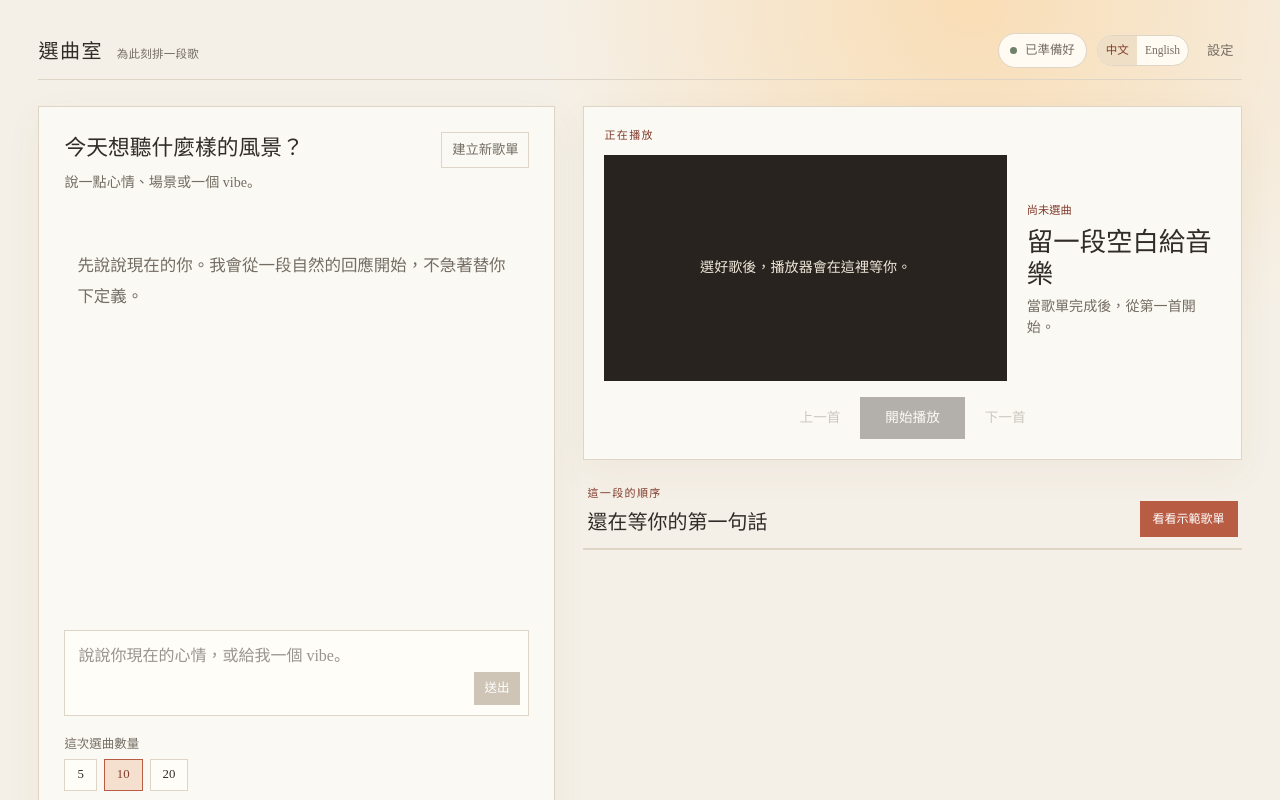
Pedelec submit flow › sends trimmed input to the live Pedelec session and saves the user message
Type "  雨後散步  " into the text box with placeholder "說說你現在的心情，或給我一個 vibe。" at (297, 673), box [64,630,530,716]
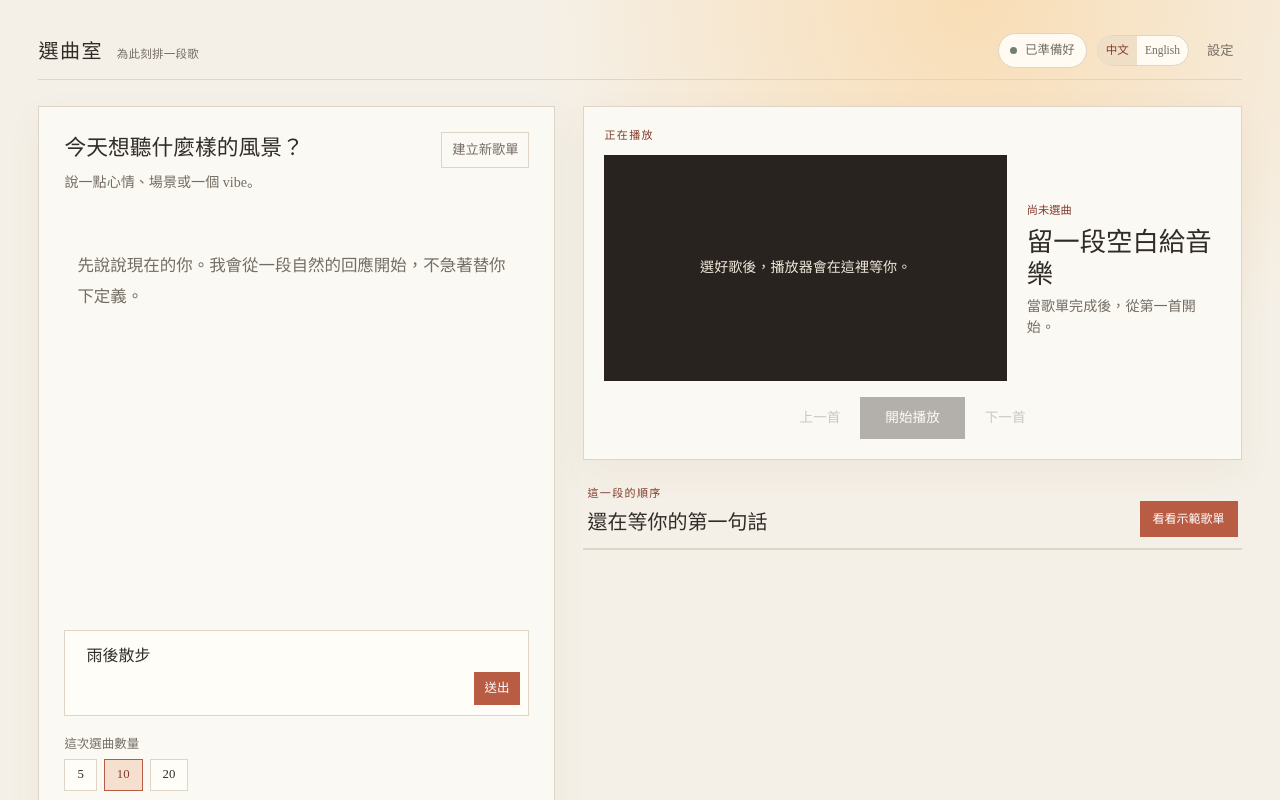
Click the button with aria-label "送出選曲需求" at (497, 688), box [474,672,520,705]
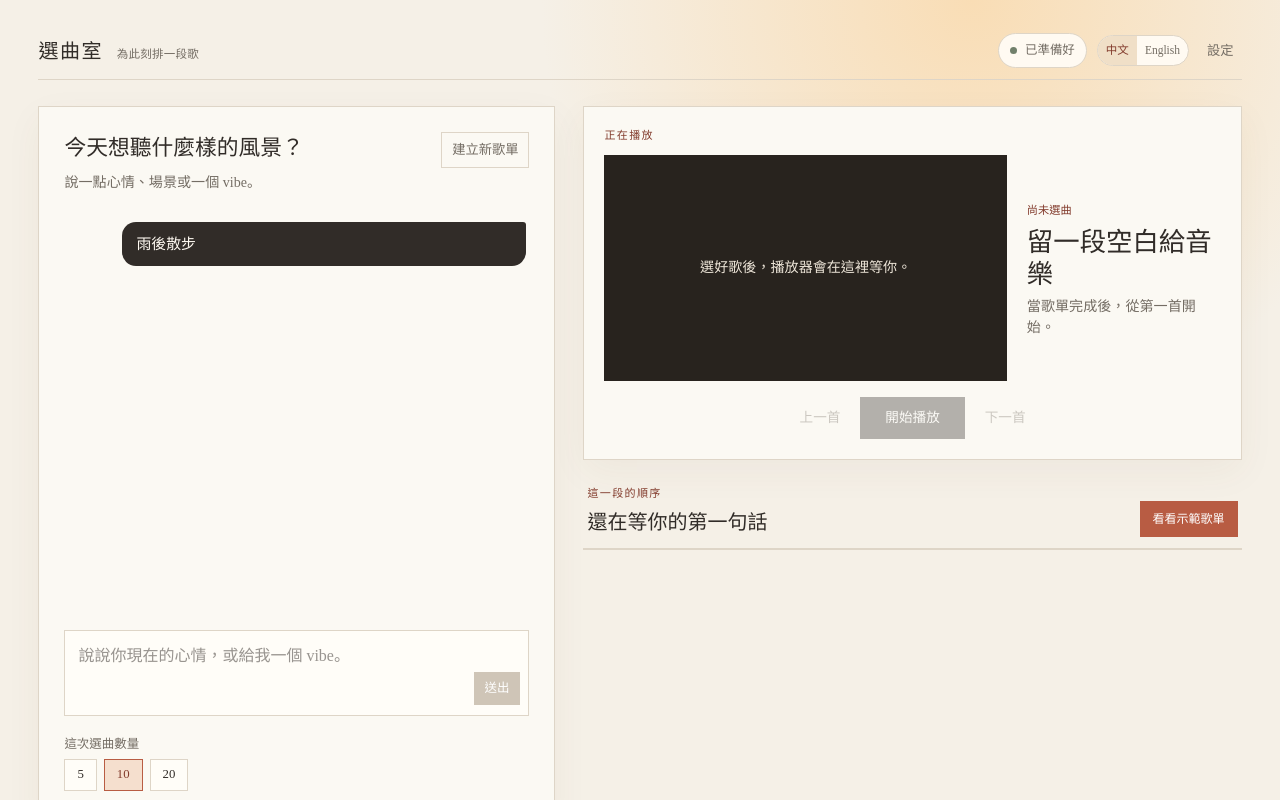
Now the text "雨後散步" is shown, box [136,236,196,252]
